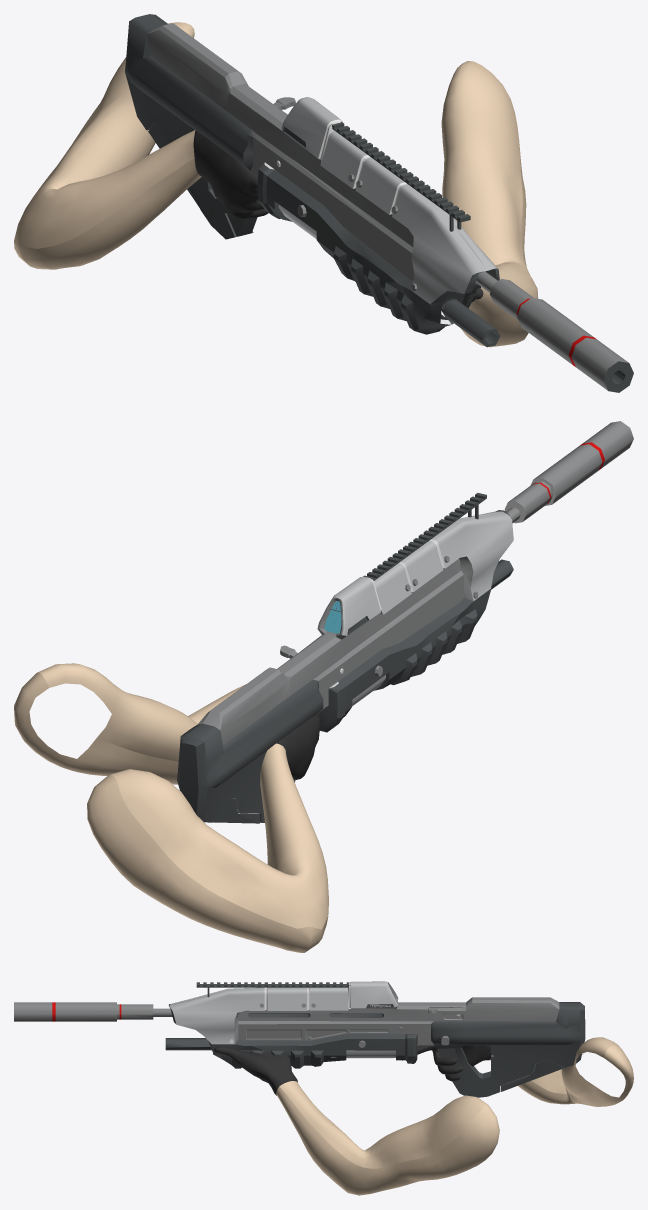
3 renders of one model, top to bottom at view 1: azimuth 30°, elevation 25°; view 2: azimuth 150°, elevation 25°; view 3: azimuth 270°, elevation 25°, orthographic. The views are drawn at different scales.
Visible parts, largest first — view 1: g_polySurface2_polySurface24.011_meshId4_name.011, SketchUp, SketchUp.031, SketchUp.005, SketchUp.012, g_polySurface2_polySurface24_meshId4_name, SketchUp.056, instance_2, SketchUp.011, SketchUp.016, SketchUp.015, SketchUp.054 (+3 smaller); view 2: g_polySurface2_polySurface24.011_meshId4_name.011, SketchUp, SketchUp.031, SketchUp.005, SketchUp.012, SketchUp.056, SketchUp.011, g_polySurface2_polySurface24_meshId4_name, instance_2, SketchUp.016, SketchUp.054, SketchUp.015 (+1 smaller); view 3: g_polySurface2_polySurface24.011_meshId4_name.011, SketchUp, SketchUp.031, SketchUp.005, SketchUp.012, g_polySurface2_polySurface24_meshId4_name, SketchUp.056, SketchUp.011, SketchUp.016, SketchUp.015, instance_2, SketchUp.054 (+4 smaller).
Boxes of the visible parts, x1=… form: g_polySurface2_polySurface24.011_meshId4_name.011: x1=14, y1=22, x2=538, y2=347; SketchUp: x1=147, y1=23, x2=414, y2=282; SketchUp.031: x1=125, y1=14, x2=257, y2=239; SketchUp.005: x1=257, y1=162, x2=499, y2=334; SketchUp.012: x1=392, y1=184, x2=497, y2=304; g_polySurface2_polySurface24_meshId4_name: x1=193, y1=130, x2=483, y2=302; SketchUp.056: x1=517, y1=298, x2=593, y2=364; instance_2: x1=331, y1=121, x2=470, y2=231; SketchUp.011: x1=281, y1=97, x2=340, y2=158; SketchUp.016: x1=355, y1=157, x2=404, y2=214; SketchUp.015: x1=320, y1=131, x2=367, y2=188; SketchUp.054: x1=571, y1=337, x2=628, y2=390; g_polySurface2_polySurface24.011_meshId4_name.011: x1=14, y1=663, x2=342, y2=952; SketchUp: x1=197, y1=556, x2=473, y2=744; SketchUp.031: x1=177, y1=679, x2=323, y2=822; SketchUp.005: x1=319, y1=510, x2=509, y2=732; SketchUp.012: x1=431, y1=511, x2=513, y2=600; SketchUp.056: x1=533, y1=444, x2=602, y2=504; SketchUp.011: x1=317, y1=577, x2=380, y2=635; g_polySurface2_polySurface24_meshId4_name: x1=276, y1=713, x2=320, y2=779; instance_2: x1=363, y1=493, x2=486, y2=580; SketchUp.016: x1=400, y1=541, x2=443, y2=591; SketchUp.054: x1=582, y1=421, x2=633, y2=468; SketchUp.015: x1=374, y1=563, x2=411, y2=614; g_polySurface2_polySurface24.011_meshId4_name.011: x1=276, y1=1037, x2=633, y2=1195; SketchUp: x1=234, y1=982, x2=559, y2=1045; SketchUp.031: x1=431, y1=1002, x2=585, y2=1097; SketchUp.005: x1=168, y1=1004, x2=417, y2=1068; SketchUp.012: x1=169, y1=987, x2=264, y2=1044; g_polySurface2_polySurface24_meshId4_name: x1=214, y1=1037, x2=490, y2=1095; SketchUp.056: x1=55, y1=1002, x2=116, y2=1021; SketchUp.011: x1=351, y1=981, x2=397, y2=1008; SketchUp.016: x1=267, y1=987, x2=307, y2=1010; SketchUp.015: x1=310, y1=987, x2=347, y2=1010; instance_2: x1=196, y1=982, x2=349, y2=997; SketchUp.054: x1=14, y1=1002, x2=52, y2=1021.
Bounding box in the file's own units: 0.1045 × 0.0651 × 0.2297.
